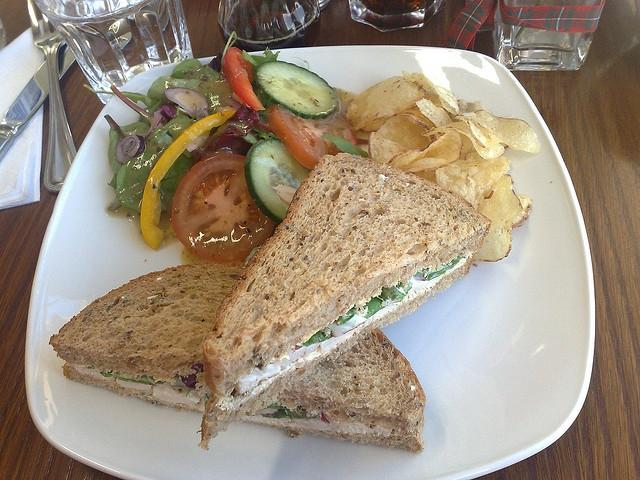cucumber: (244, 138, 312, 224), (255, 61, 338, 120)
tomato: (171, 153, 274, 262), (266, 104, 330, 170), (223, 48, 265, 112)
